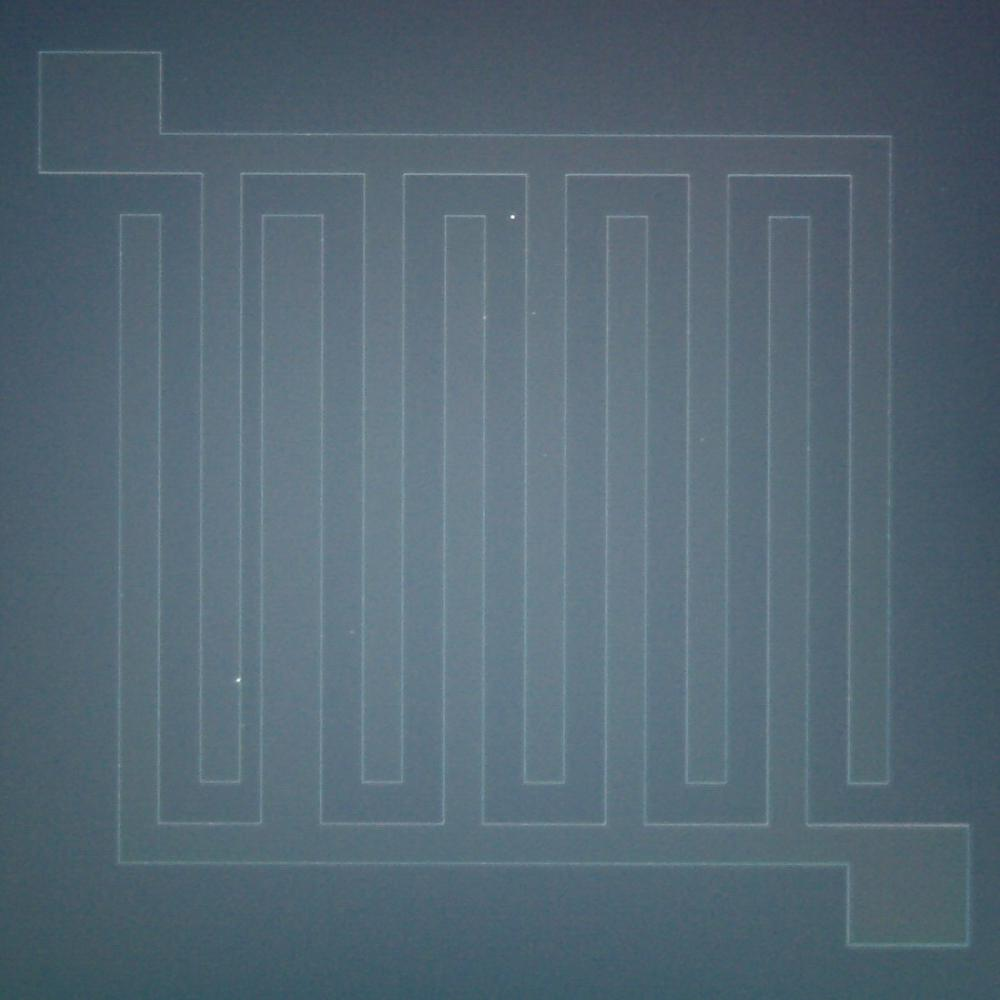dot: (510, 214, 515, 219), (236, 678, 241, 682), (532, 311, 536, 315)
